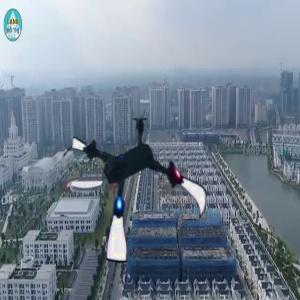drone: (61, 109, 218, 266)
